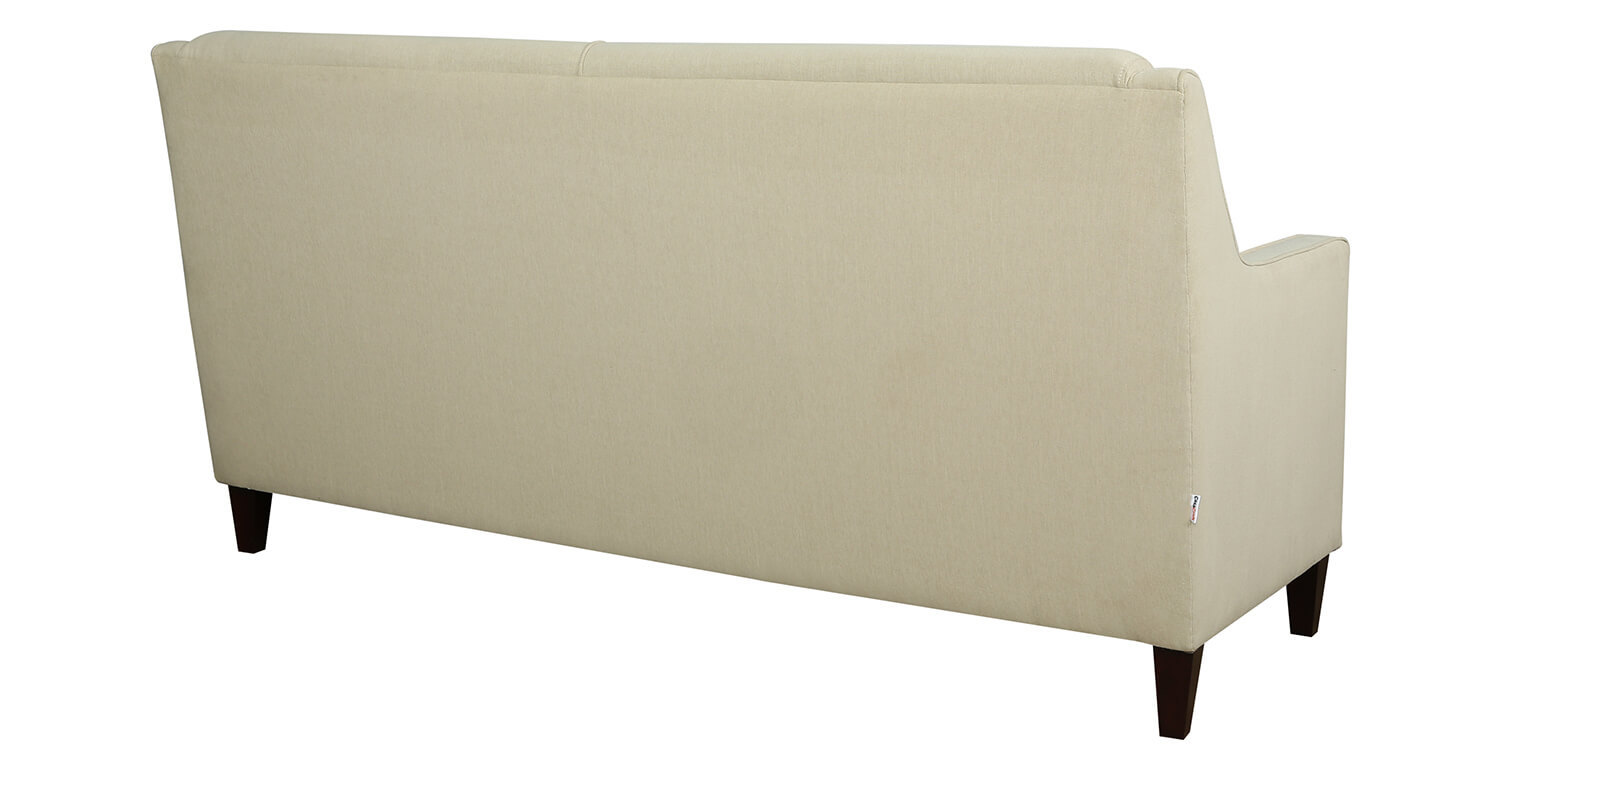Oscar Three Seater Sofa in Beige Colour by CasaCraft: (148, 26, 1349, 739)
